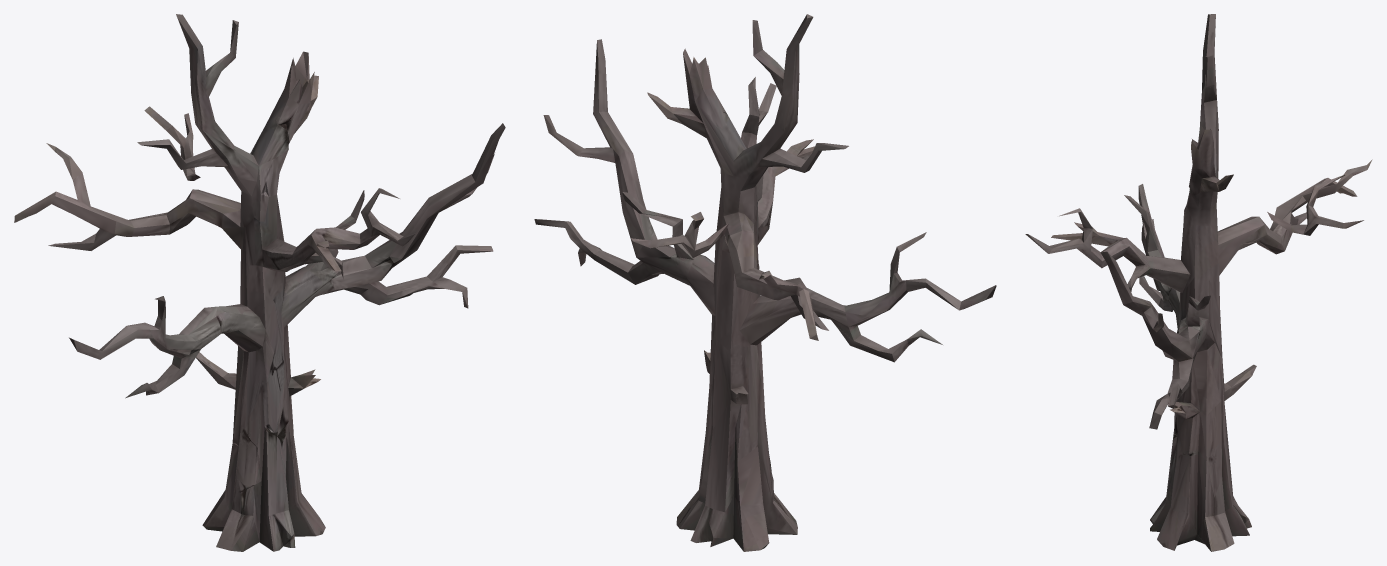
Rendered from bg_wasteland_dead_1_lod0.glb.
3 views of the same model, side by side, from view 1: azimuth 30°, elevation 25°; view 2: azimuth 150°, elevation 25°; view 3: azimuth 270°, elevation 25° (orthographic). The views are drawn at different scales.
Parts seen in each view (by area): view 1: body; view 2: body; view 3: body.
Part boxes in pixels (x1,y1,x2,y2): body: (14,14,505,551); body: (534,14,996,551); body: (1025,14,1372,551).
Size of the model in its own units: 3.48 by 4 by 2.61.
Materials: 1 (1 with a texture image).
